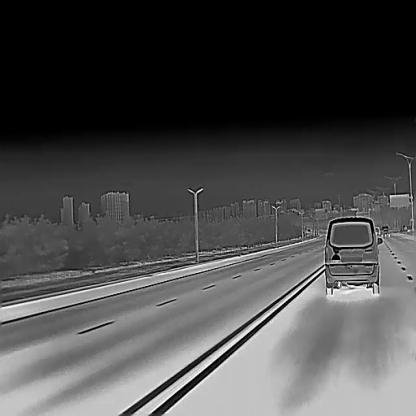car: (323, 214, 383, 294), (381, 224, 389, 236)
